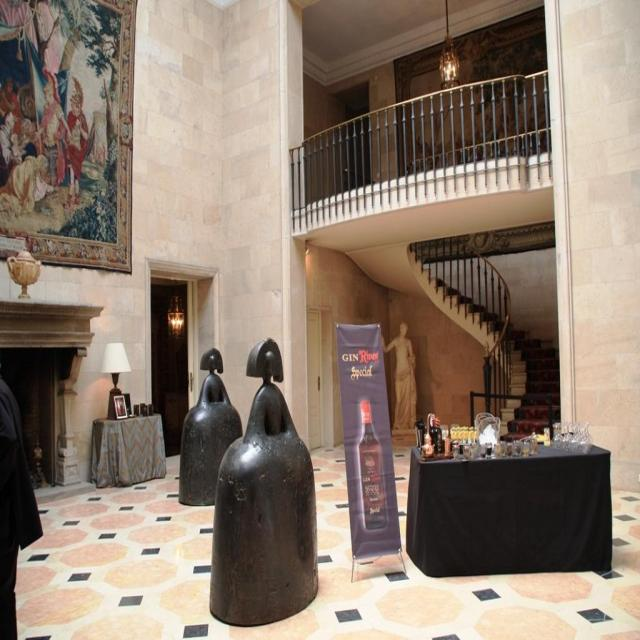Table: (410, 425, 618, 598)
